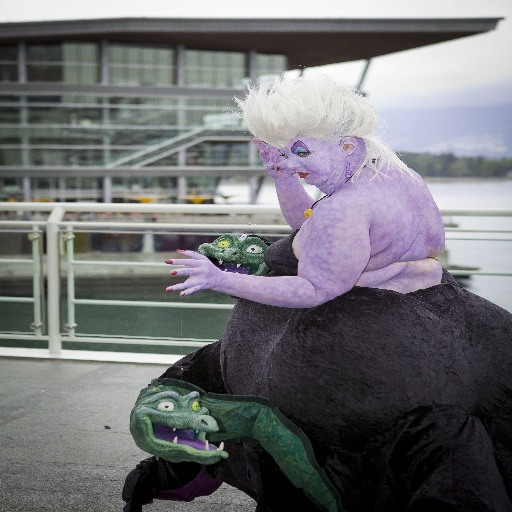hand: (157, 263, 236, 298), (250, 135, 301, 183)
